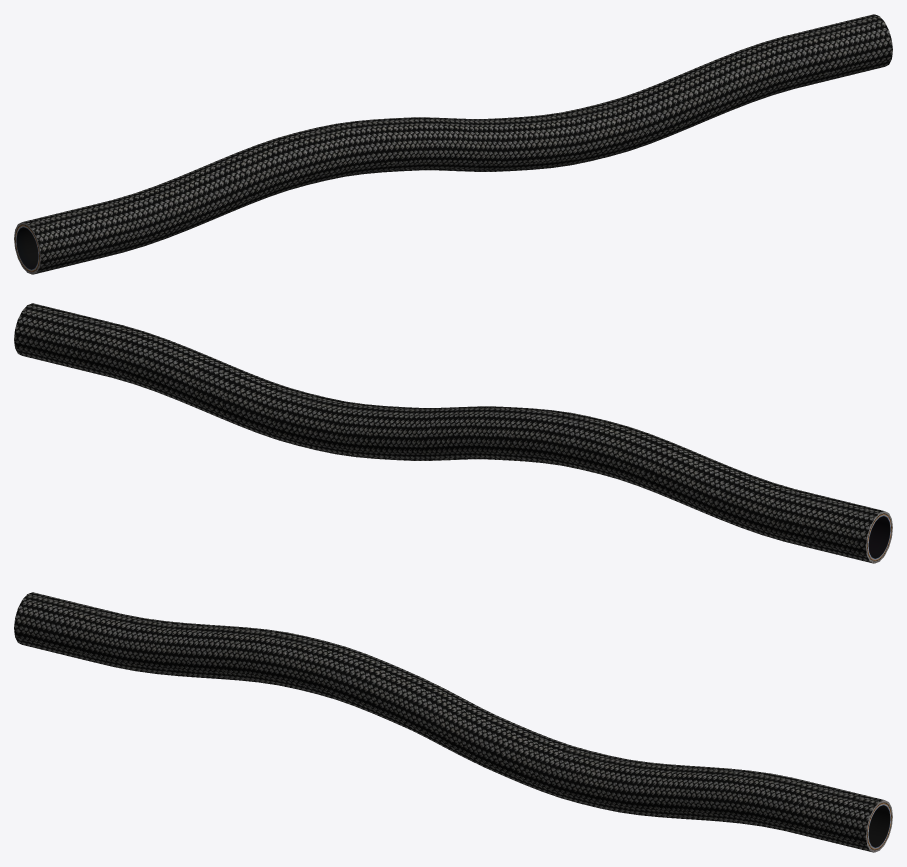
The picture shows the model from 3 angles, top to bottom: view 1: azimuth 30°, elevation 25°; view 2: azimuth 150°, elevation 25°; view 3: azimuth 330°, elevation 25°; orthographic projection.
Visible parts, largest first — view 1: Polyester_Braid-16; view 2: Polyester_Braid-16; view 3: Polyester_Braid-16.
Boxes of the visible parts, left/top/right/bottom form: Polyester_Braid-16: left=14, top=14, right=892, bottom=274; Polyester_Braid-16: left=14, top=303, right=892, bottom=563; Polyester_Braid-16: left=14, top=592, right=892, bottom=852.
Size of the model in its own units: 0.5 by 0.0528 by 0.0274.
2 materials, 2 textured.
